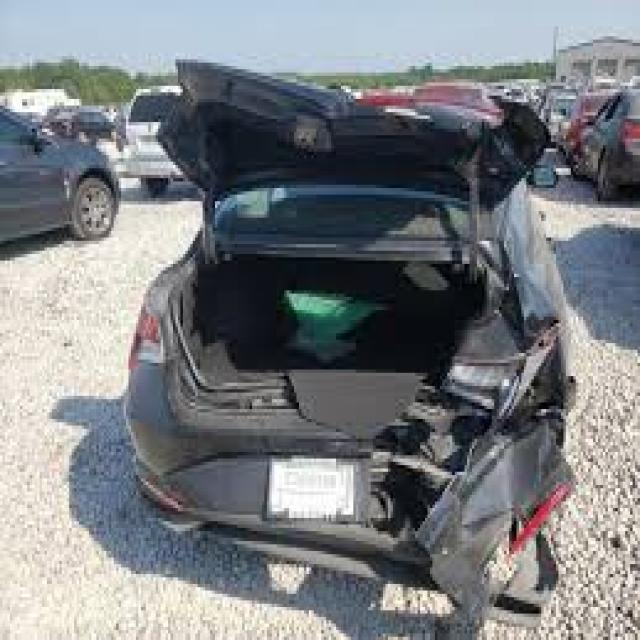damaged-trunk: (180, 234, 525, 414)
